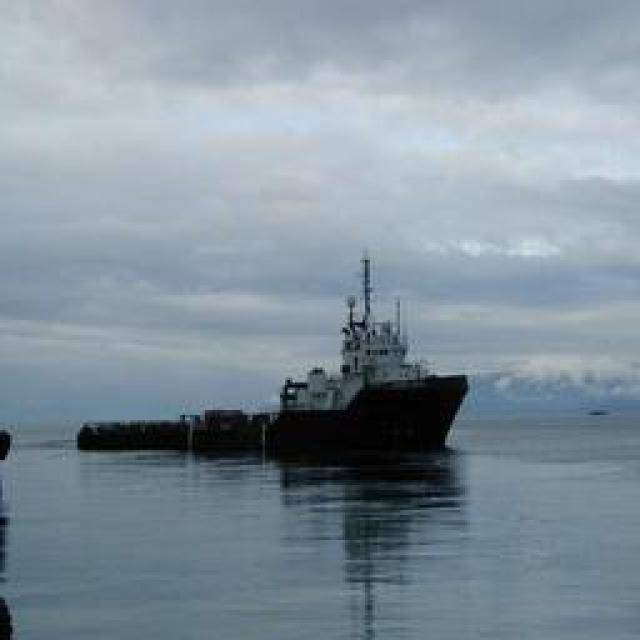Ship: (266, 245, 469, 453)
